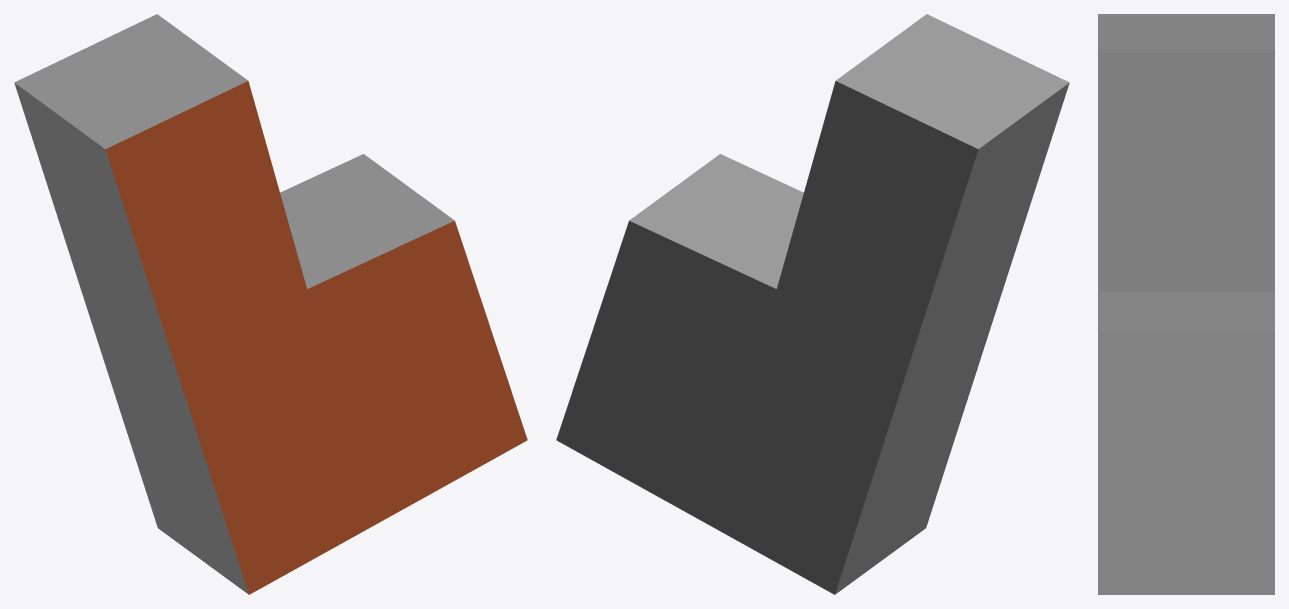
Rendered from construction_0766_assumed_A_Casa_h6m.obj.
3 views of the same model, side by side, from view 1: azimuth 30°, elevation 25°; view 2: azimuth 150°, elevation 25°; view 3: azimuth 270°, elevation 25° (orthographic). The views are drawn at different scales.
Visible parts, largest first — view 1: construction_0766_assumed_A_Casa; view 2: construction_0766_assumed_A_Casa; view 3: construction_0766_assumed_A_Casa.
Boxes of the visible parts, x1,y1,x2,y2 form: construction_0766_assumed_A_Casa: (14,14,527,594); construction_0766_assumed_A_Casa: (556,14,1069,594); construction_0766_assumed_A_Casa: (1098,14,1274,594).
Bounding box in the file's own units: 16.03 × 18.65 × 6.
